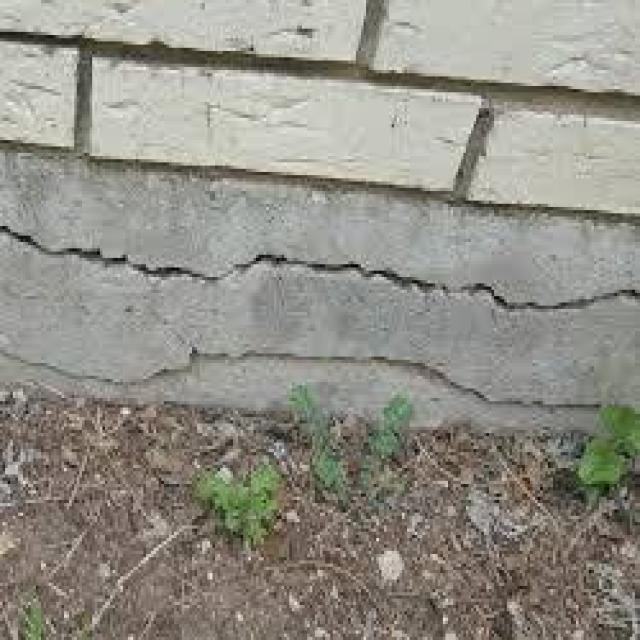wall_crack: (269, 252, 640, 314), (0, 221, 265, 287)
